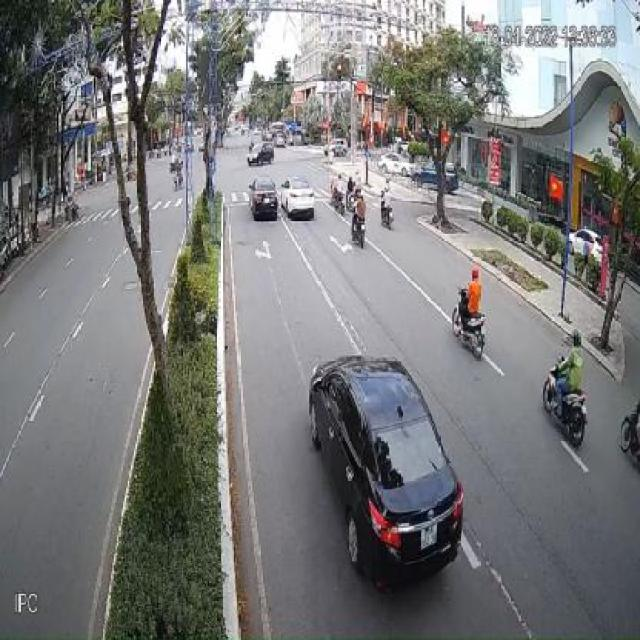car: (307, 350, 469, 578), (280, 179, 314, 222), (250, 176, 278, 222), (248, 141, 276, 167)
motorbike: (544, 333, 591, 444), (452, 269, 492, 364), (618, 399, 640, 481), (351, 191, 367, 250), (328, 178, 348, 216), (380, 186, 393, 228)
